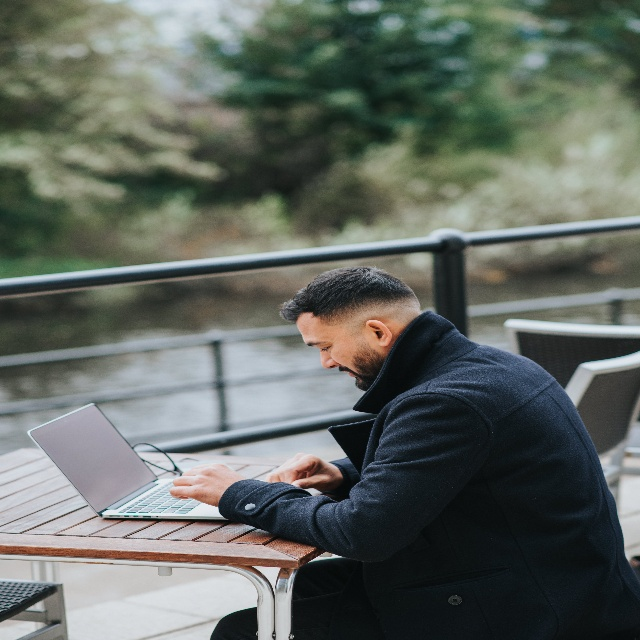Sin_guantes: (268, 450, 342, 492), (172, 464, 237, 506)
